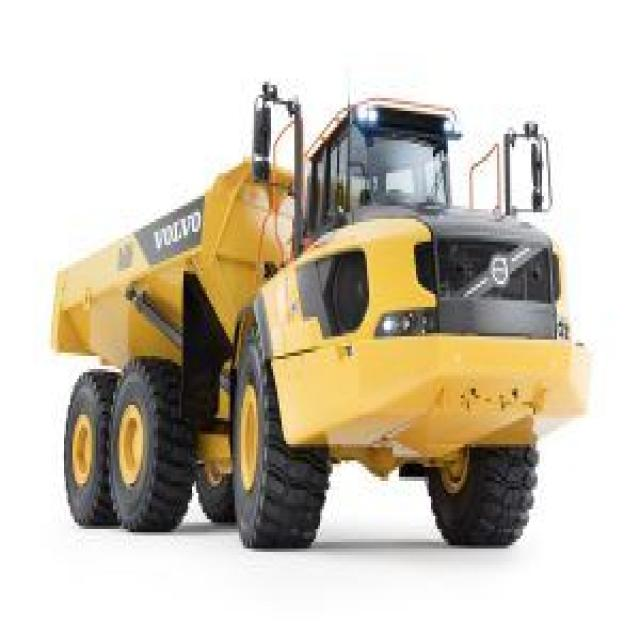dump_truck: (42, 91, 586, 552)
